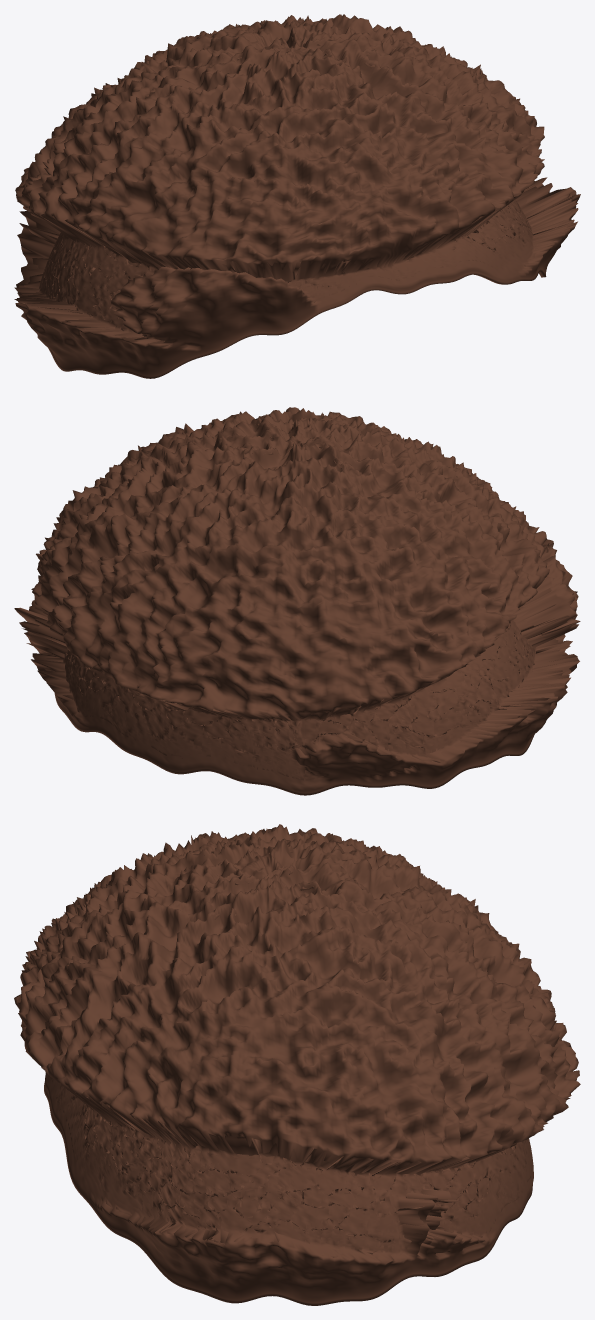
File: Masculine-afro-headband252-hair.glb
3 views of the same model, one above another, from view 1: azimuth 30°, elevation 25°; view 2: azimuth 150°, elevation 25°; view 3: azimuth 270°, elevation 25° (orthographic). The views are drawn at different scales.
Parts seen in each view (by area): view 1: 226 hair / Hair252 / dense natural coil groups.001; view 2: 226 hair / Hair252 / dense natural coil groups.001; view 3: 226 hair / Hair252 / dense natural coil groups.001.
Boxes of the visible parts, x1,y1,x2,y2 form: 226 hair / Hair252 / dense natural coil groups.001: (14,14,580,378); 226 hair / Hair252 / dense natural coil groups.001: (14,407,580,795); 226 hair / Hair252 / dense natural coil groups.001: (14,824,580,1305).
Bounding box in the file's own units: 1.12 × 0.548 × 0.8804.
